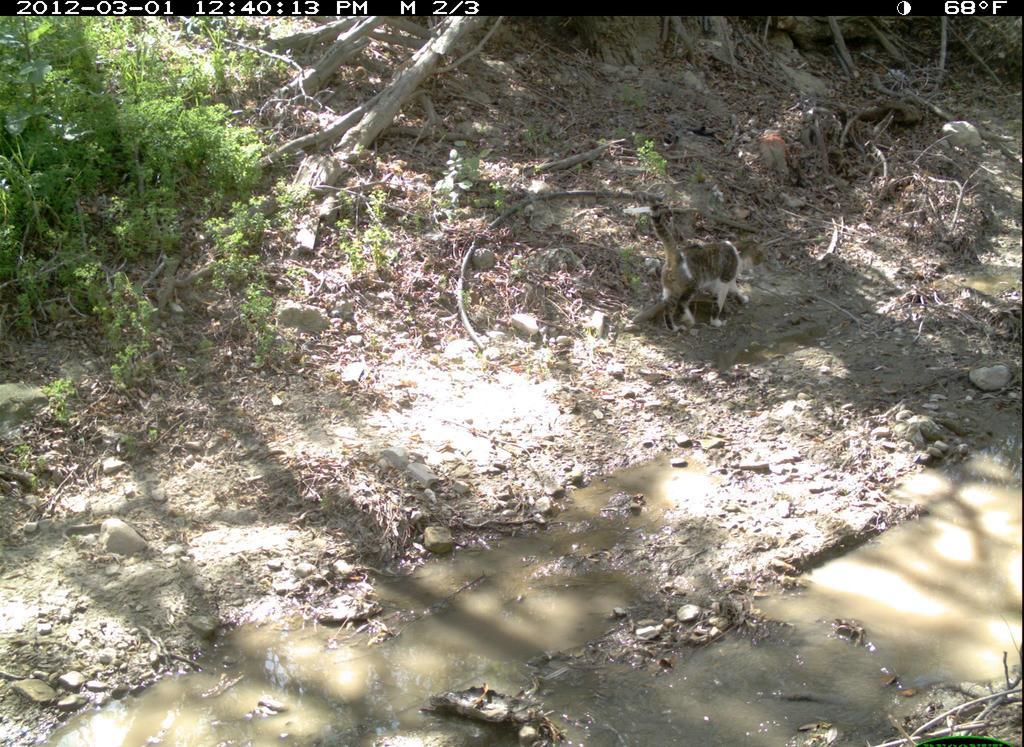cat: (630, 189, 799, 350)
